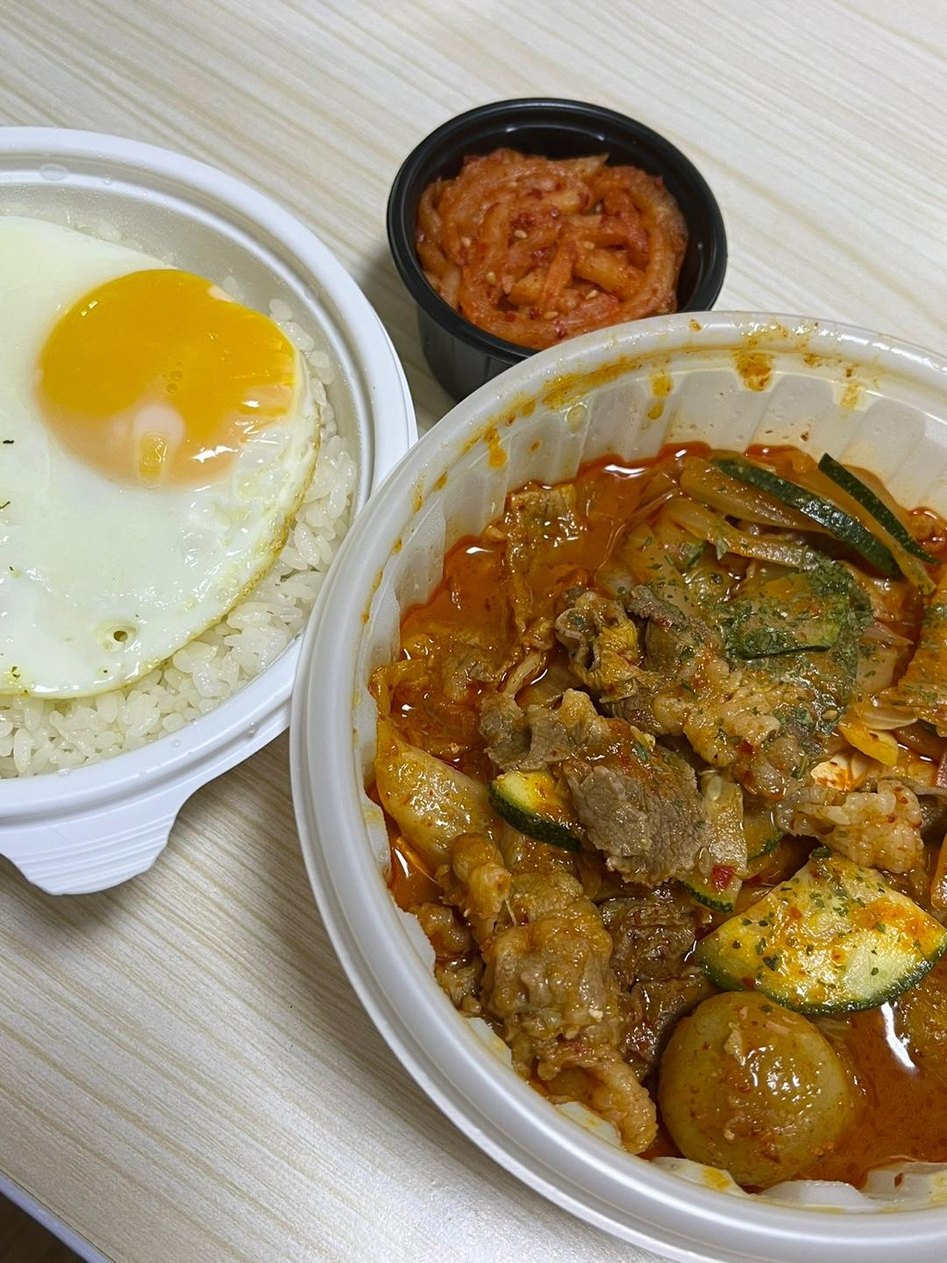Lunch Box: (292, 312, 946, 1262), (0, 129, 416, 892)
cup: (388, 99, 725, 399)
